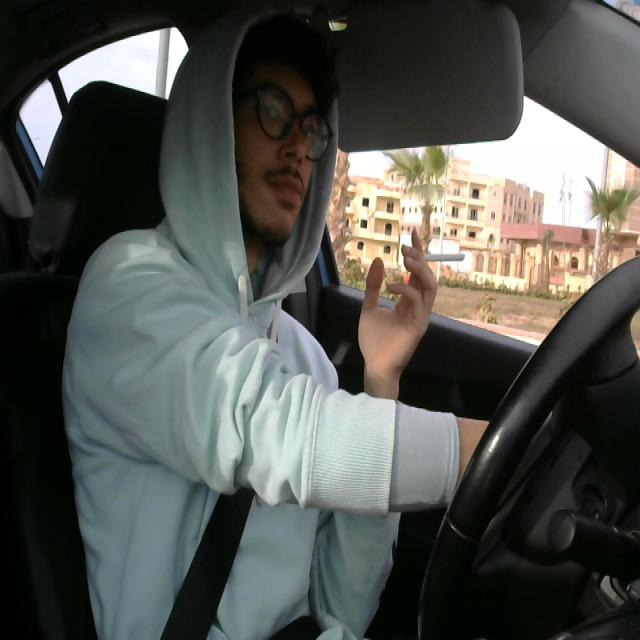smoking: (400, 248, 467, 268)
